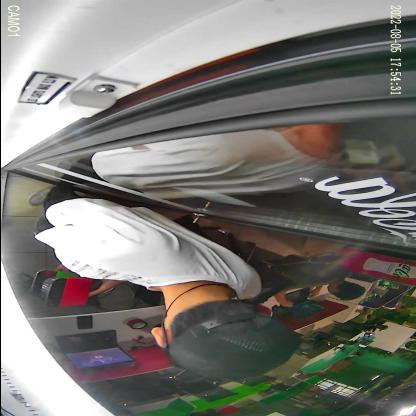green: (29, 270, 83, 296)
red: (38, 278, 102, 308)
